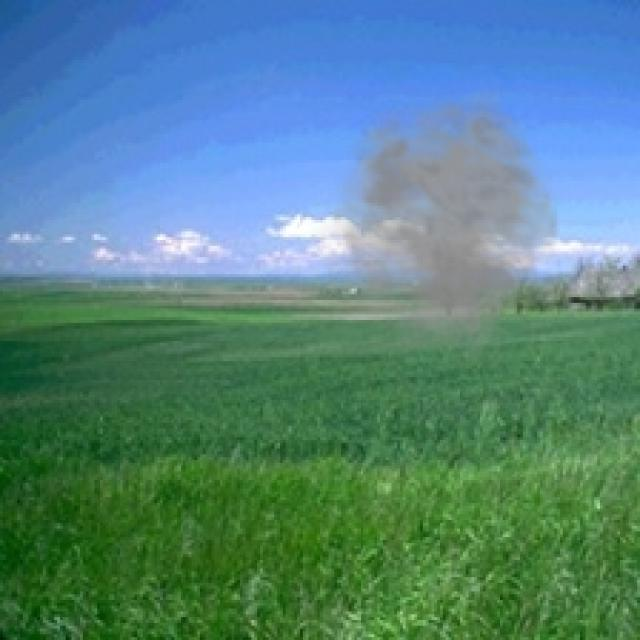Smoke: (311, 88, 560, 366)
